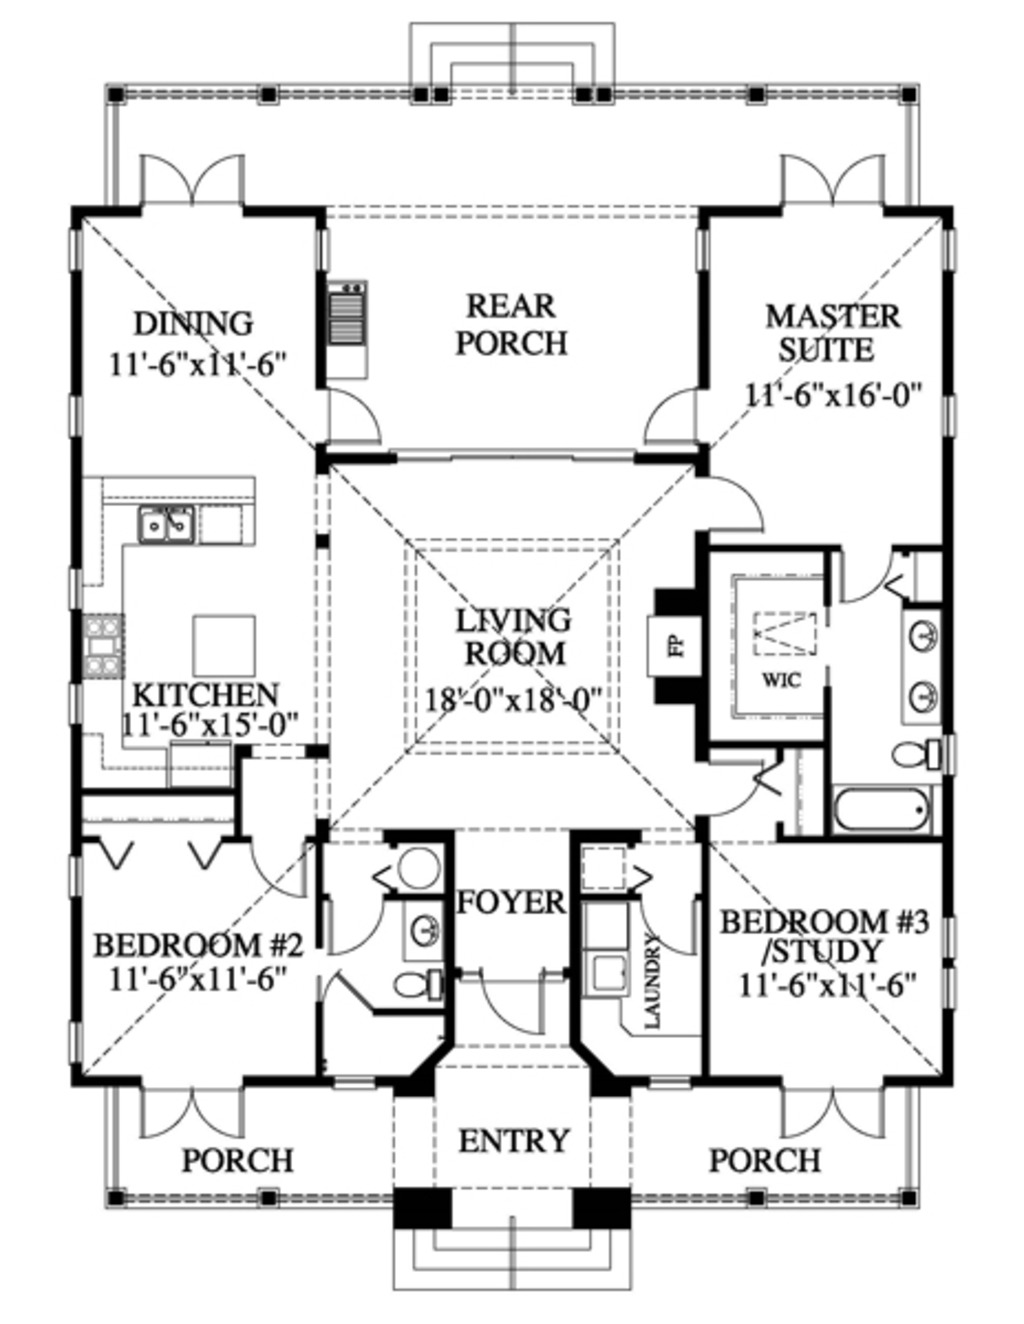door: (773, 1080, 891, 1146), (132, 1083, 253, 1142), (779, 149, 890, 212), (131, 150, 251, 205), (476, 963, 553, 1044), (697, 470, 770, 539), (237, 836, 314, 900), (317, 888, 384, 960), (694, 755, 766, 815), (641, 382, 707, 446), (637, 891, 700, 959), (322, 384, 383, 454), (834, 543, 897, 604)
large_sink: (880, 733, 953, 779), (390, 966, 446, 1005)
small_sink: (897, 611, 944, 731), (396, 900, 445, 963)
stairs: (389, 1219, 644, 1303), (403, 15, 621, 107)
tub: (824, 780, 937, 839)
twin_sink: (130, 500, 201, 546)
windows: (937, 907, 962, 1018), (690, 221, 718, 276), (62, 387, 87, 445), (62, 222, 87, 276), (937, 221, 960, 279)
